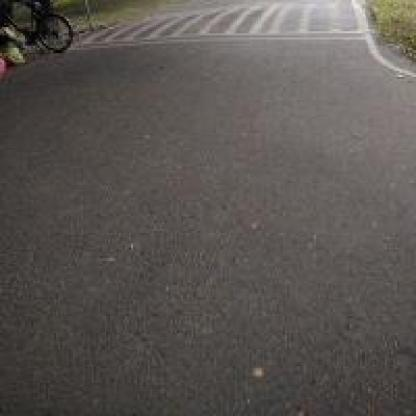Speed Bump: (73, 0, 370, 52)
